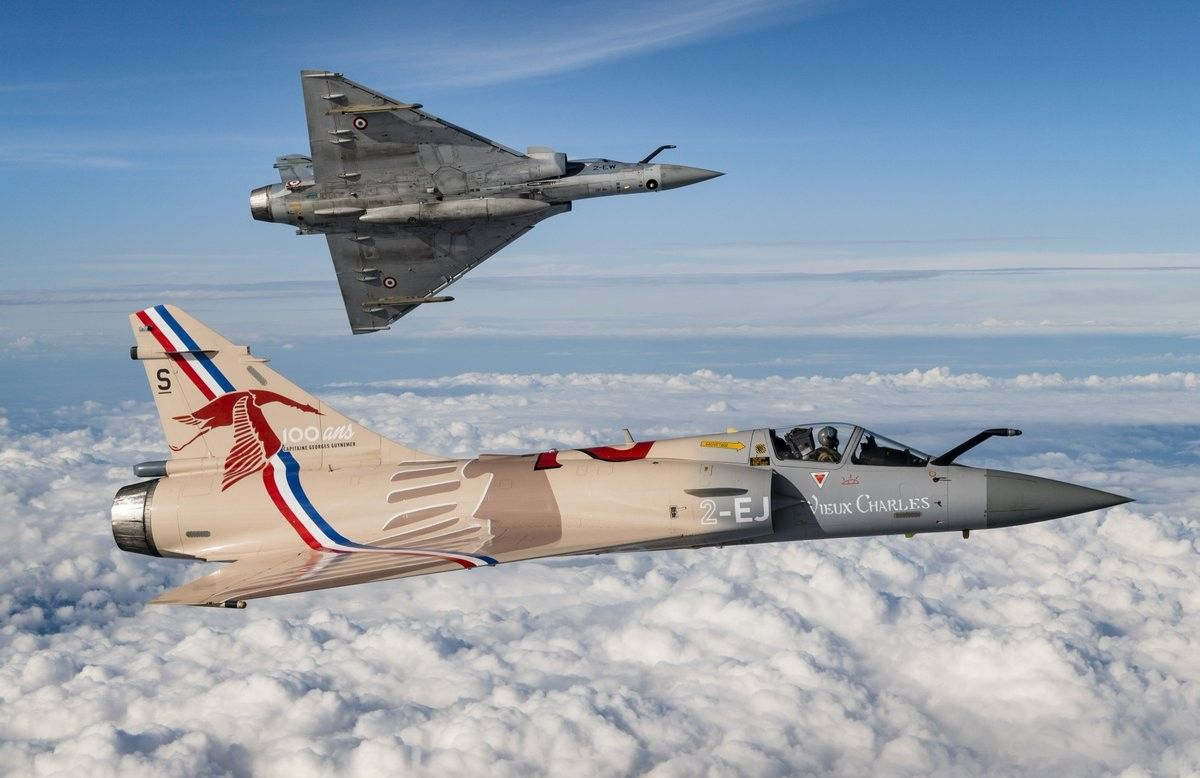Mirage2000: (111, 304, 1137, 609), (249, 69, 727, 335)
